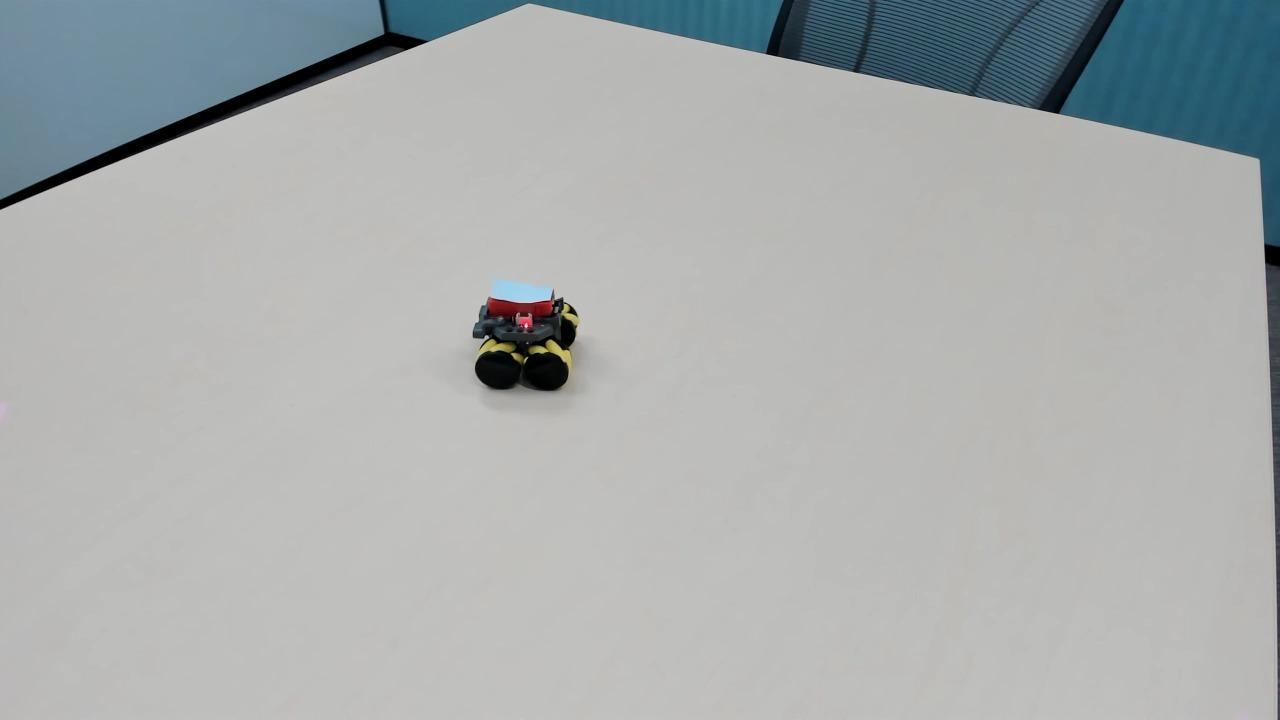R-Robot: (450, 271, 600, 409)
